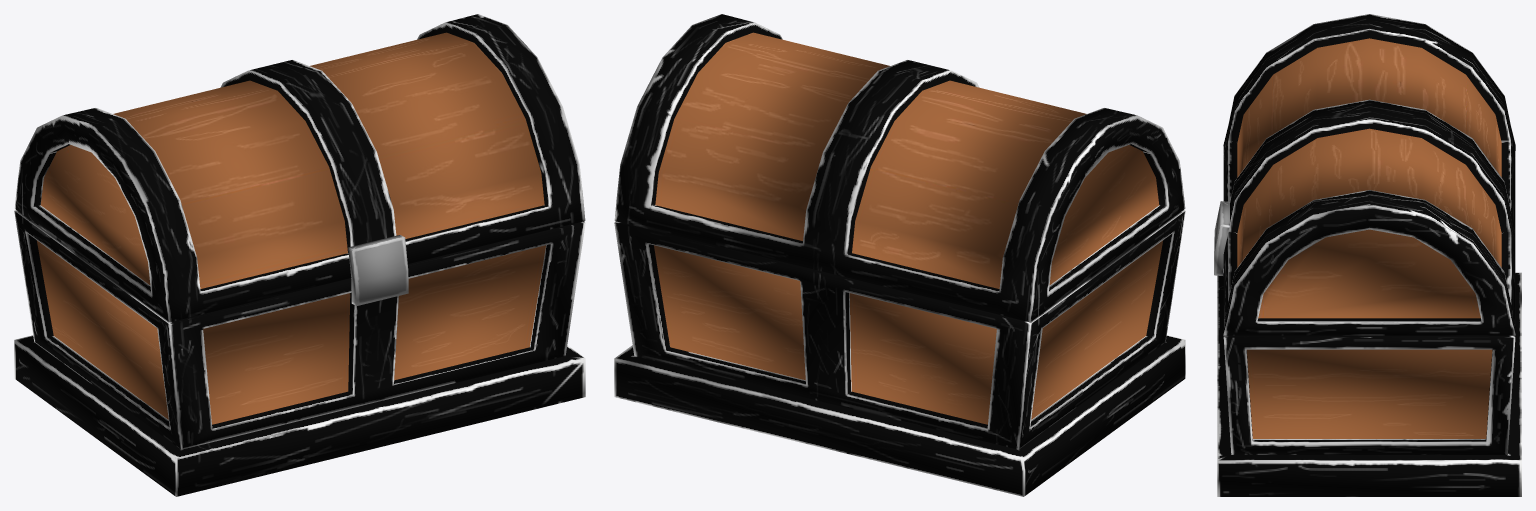
The model's file is gift.glb.
The picture shows the model from 3 angles, left to right: view 1: azimuth 30°, elevation 25°; view 2: azimuth 150°, elevation 25°; view 3: azimuth 270°, elevation 25°; orthographic projection. The views are drawn at different scales.
Parts seen in each view (by area): view 1: Low; view 2: Low; view 3: Low.
Boxes of the visible parts, <box> form: Low: <box>14,14,585,496</box>; Low: <box>614,14,1185,496</box>; Low: <box>1214,14,1521,496</box>.
Bounding box in the file's own units: 3.56 × 2.55 × 2.42.
Materials: 3 (3 with a texture image).
